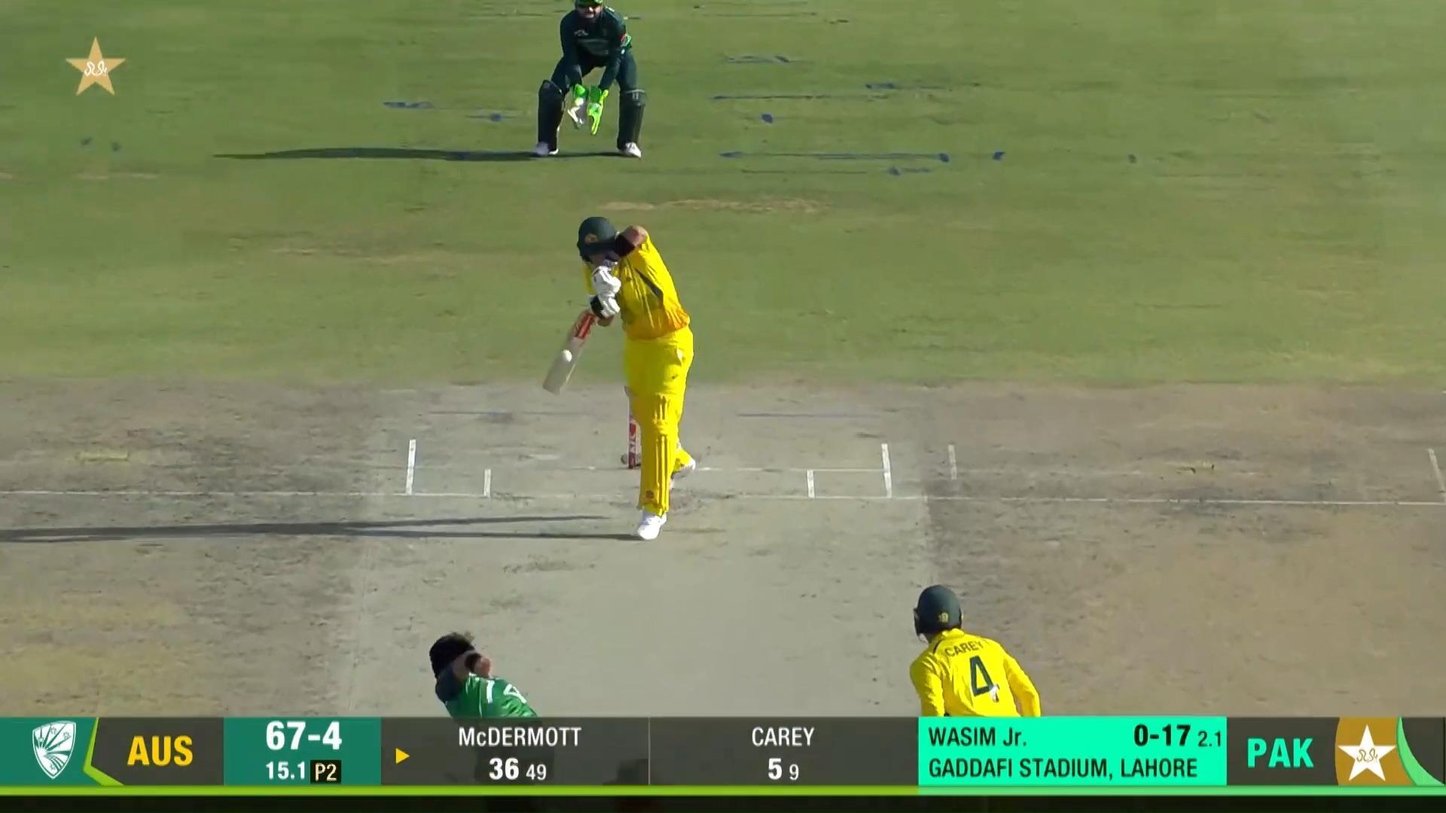BM 1: (540, 215, 696, 543)
BO: (427, 629, 559, 813)
